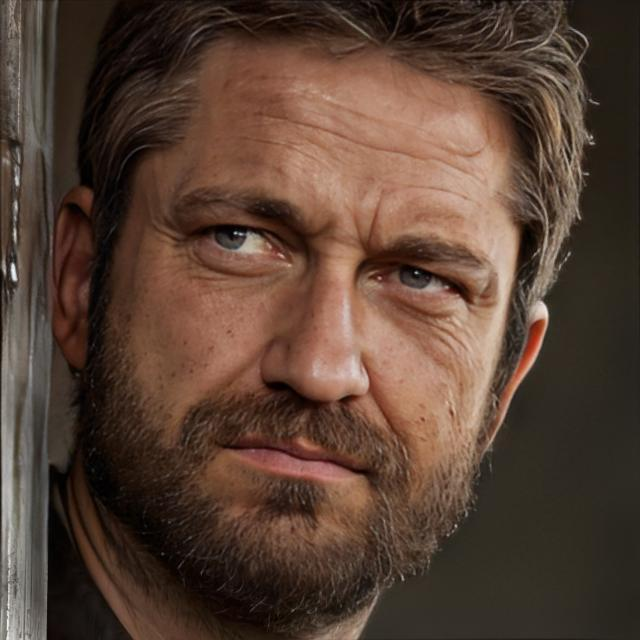anger: (106, 52, 516, 600)
